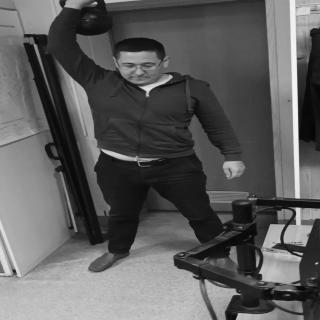girya: (60, 1, 115, 37)
